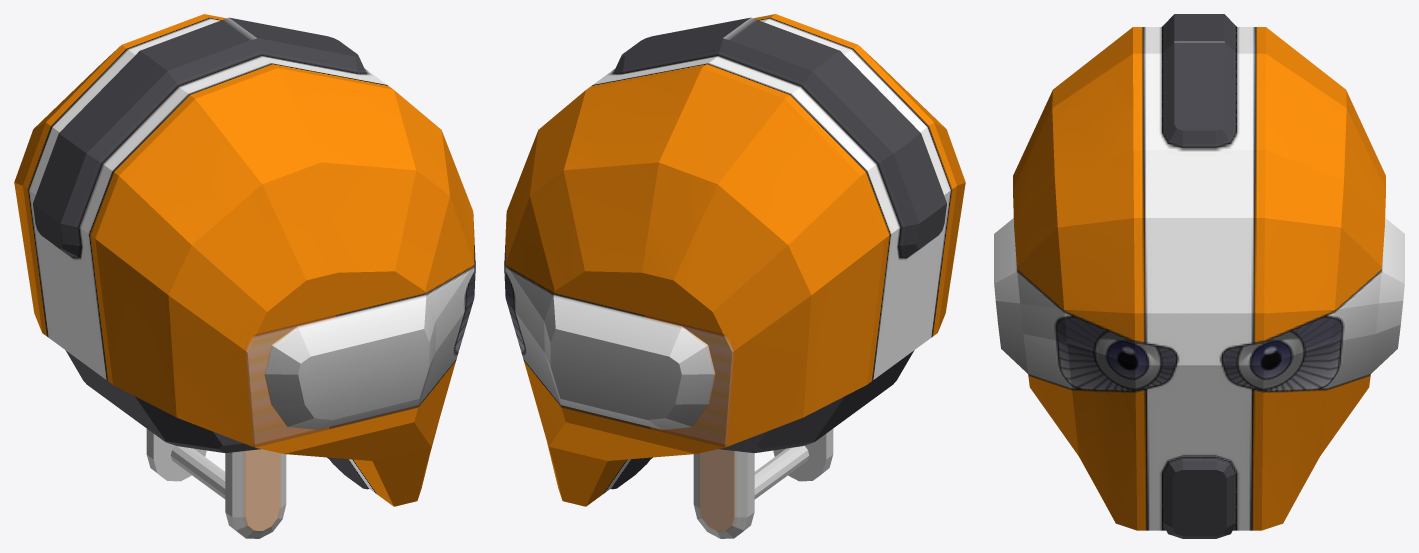
File: NECK_P_S.dae
The picture shows the model from 3 angles, left to right: view 1: azimuth 30°, elevation 25°; view 2: azimuth 150°, elevation 25°; view 3: azimuth 270°, elevation 25°; orthographic projection. The views are drawn at different scales.
Parts seen in each view (by area): view 1: root_001, root; view 2: root_001, root; view 3: root, root_001.
Boxes of the visible parts, <box> form: root_001: <box>14,14,348,538</box>; root: <box>204,14,475,506</box>; root_001: <box>631,14,965,538</box>; root: <box>504,14,775,506</box>; root: <box>994,42,1404,538</box>; root_001: <box>994,14,1404,250</box>.
Size of the model in its own units: 0.1964 by 0.197 by 0.2296.
2 materials, 2 textured.
